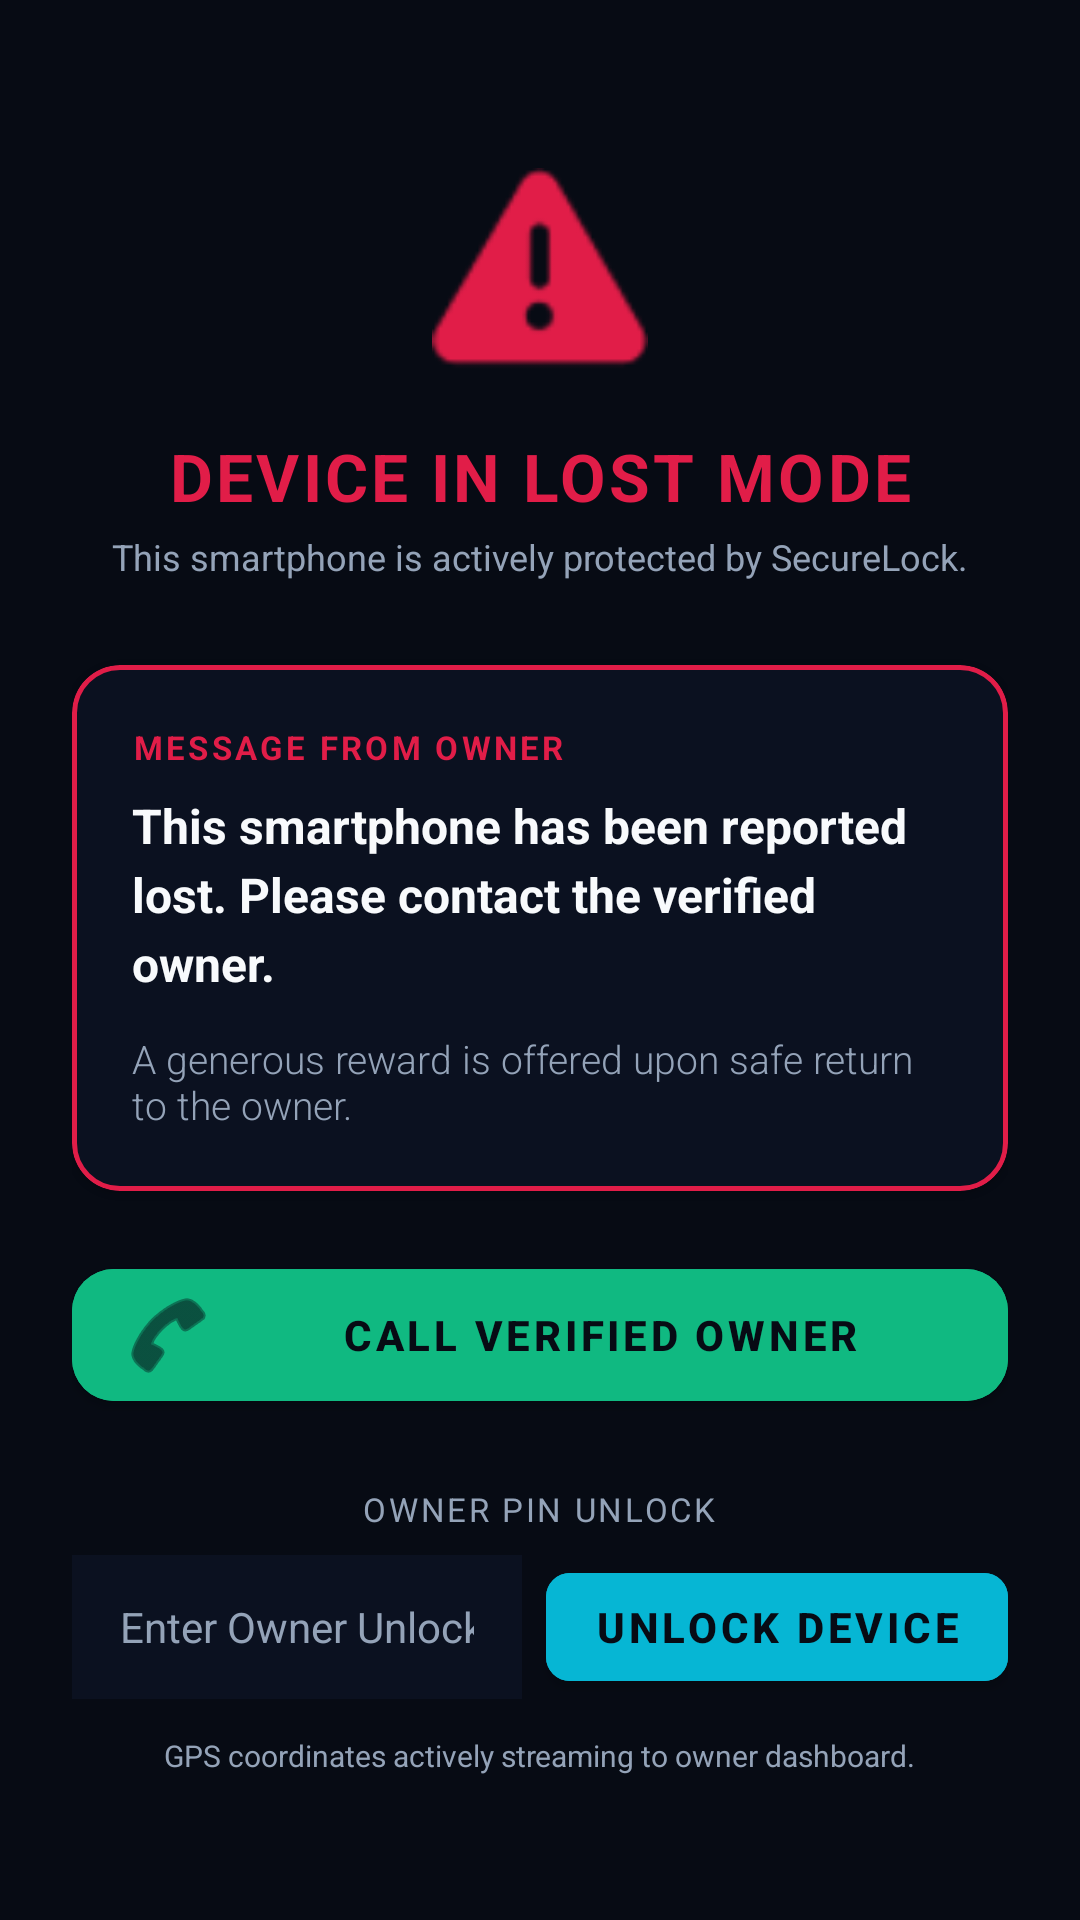

Screen size 1080x1920. Icon name, then its box in pixels as detection(x1, y1, x2, y2):
alert: detection(432, 168, 648, 365)
